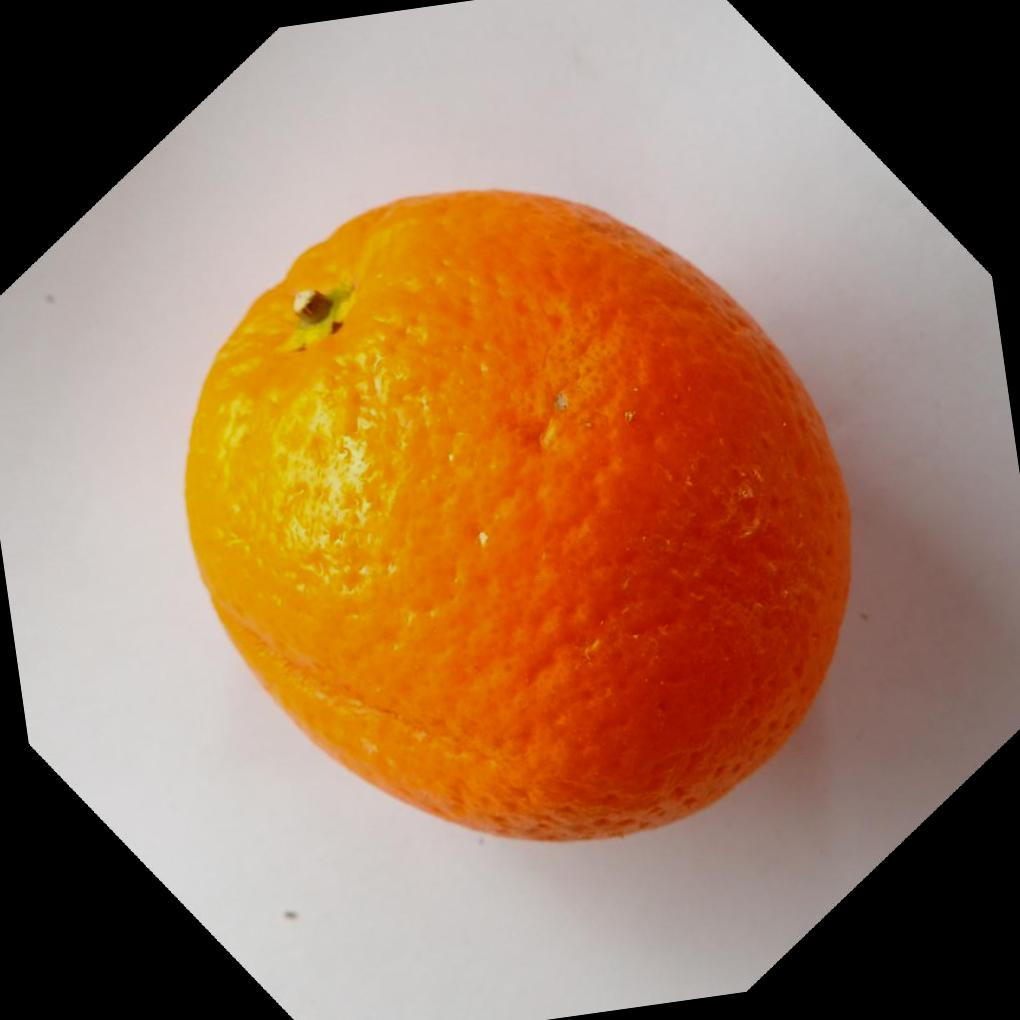FreshGuava: (178, 185, 852, 846)
